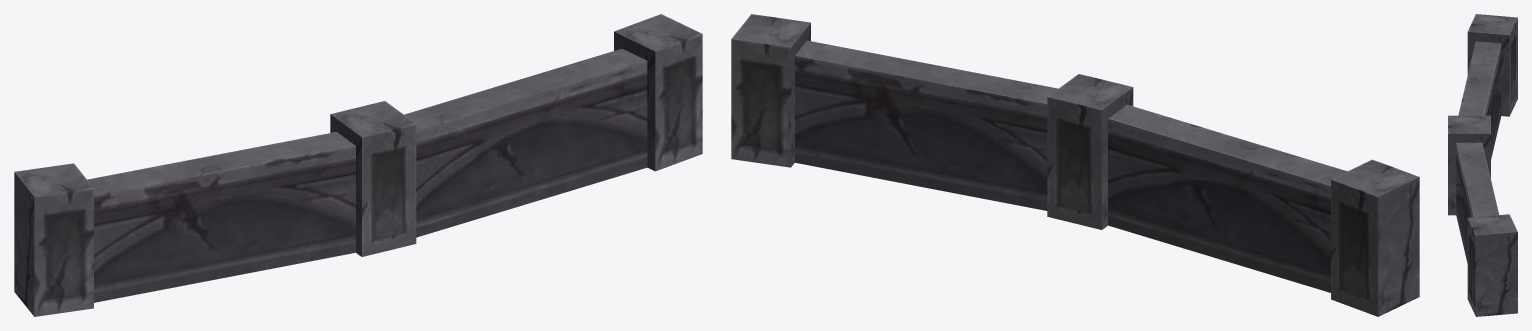
Rendered from BOSS_Wall_01.FBX.
3 renders of one model, left to right at view 1: azimuth 30°, elevation 25°; view 2: azimuth 150°, elevation 25°; view 3: azimuth 270°, elevation 25°, orthographic. The views are drawn at different scales.
Visible parts, largest first — view 1: BOSS_Wall_01; view 2: BOSS_Wall_01; view 3: BOSS_Wall_01.
Boxes of the visible parts, bbox=[...] form: BOSS_Wall_01: bbox=[14, 14, 702, 316]; BOSS_Wall_01: bbox=[731, 14, 1419, 316]; BOSS_Wall_01: bbox=[1448, 14, 1517, 316].
Size of the model in its own units: 6.08 by 1.04 by 0.8102.
